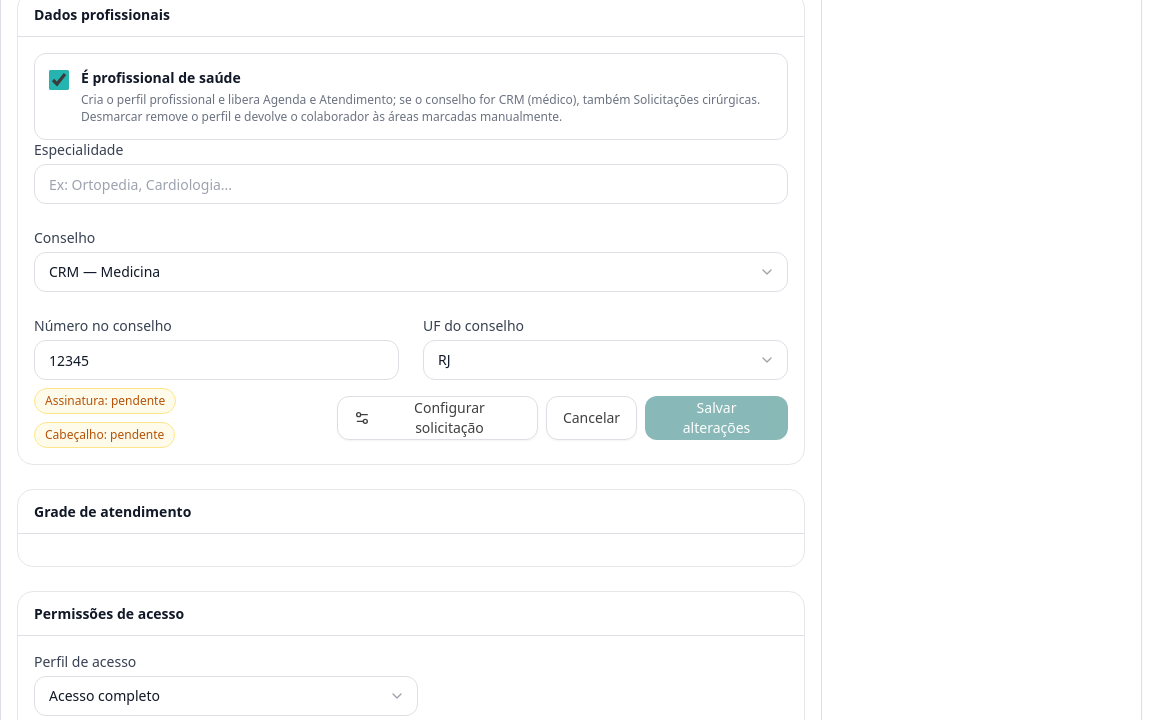
Test: Colaborador — dados profissionais › CRM continua exigindo número
(page scrolled)
Clear the field showing "12345" at (216, 360), box [34,340,399,380]
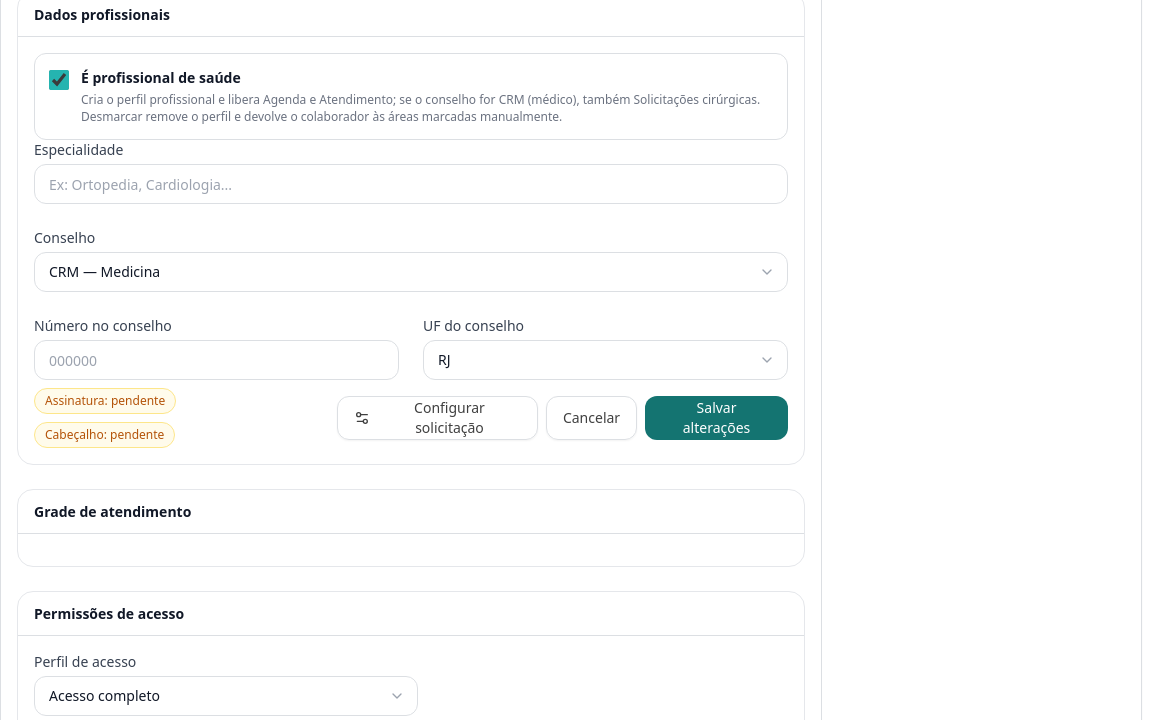
Click the button "Salvar alterações".
click(717, 418)  # box [645,396,788,440]
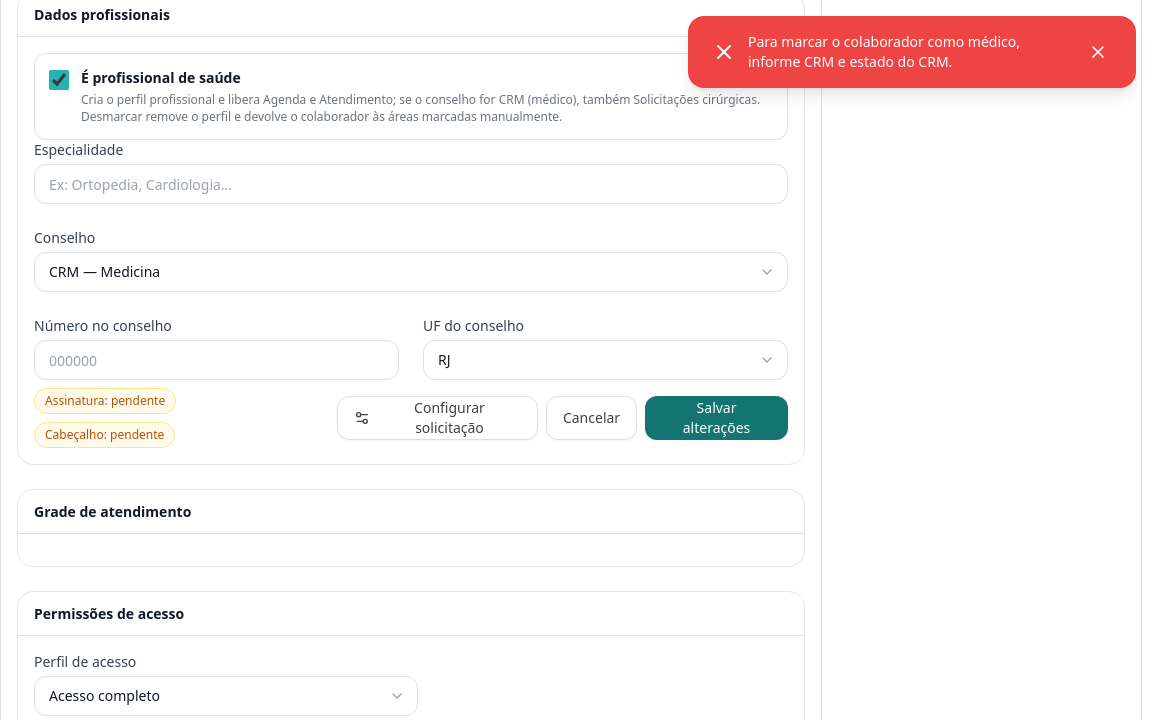
Now the text "informe CRM e estado do CRM" is shown, box [748,32,1020,71]
